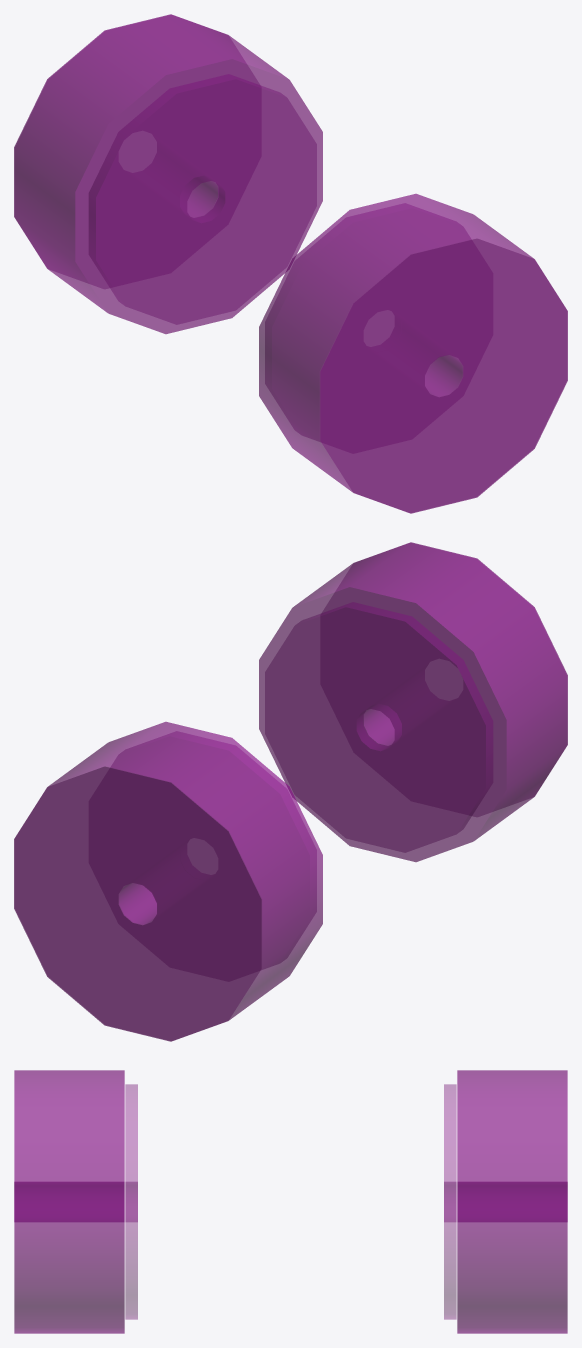
File: HCALEndcap.gltf
The picture shows the model from 3 angles, top to bottom: view 1: azimuth 30°, elevation 25°; view 2: azimuth 150°, elevation 25°; view 3: azimuth 270°, elevation 25°; orthographic projection. The views are drawn at different scales.
Visible parts, largest first — view 1: HCalEndcap_envelope_7, endcap_0 (×2), endcap_1 (×2); view 2: HCalEndcap_envelope_7, endcap_1 (×2), endcap_0 (×2); view 3: HCalEndcap_envelope_7, endcap_0 (×2), endcap_1 (×2).
Part boxes in pixels (x1,y1,x2,y2): HCalEndcap_envelope_7: [14, 14, 567, 513]; endcap_0 (×2): [259, 194, 567, 513]; endcap_1 (×2): [15, 15, 322, 333]; HCalEndcap_envelope_7: [14, 542, 567, 1041]; endcap_1 (×2): [14, 722, 322, 1041]; endcap_0 (×2): [259, 543, 566, 861]; HCalEndcap_envelope_7: [14, 1070, 567, 1333]; endcap_0 (×2): [15, 1070, 137, 1333]; endcap_1 (×2): [444, 1070, 566, 1333].
Size of the model in its own units: 280 by 280 by 600.
